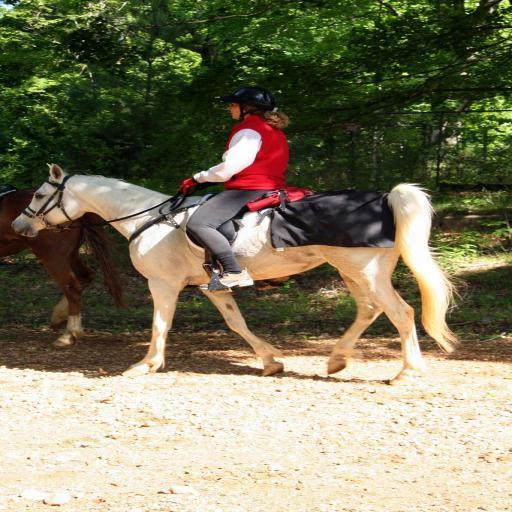horse: (9, 160, 472, 386), (0, 187, 137, 350)
